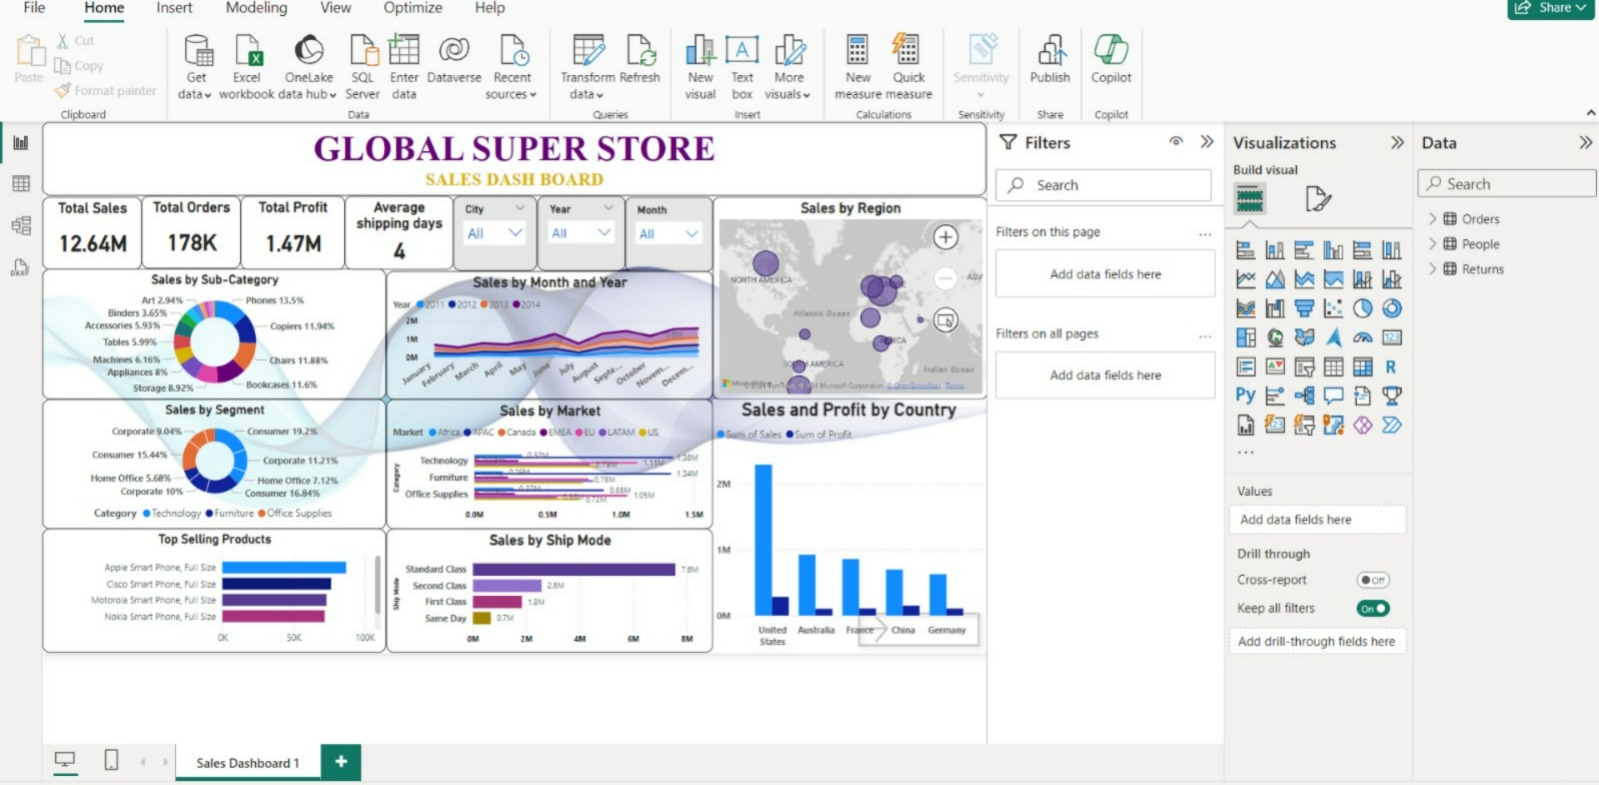

The dashboard page shown, as its layout file describes it:
{"tool":"powerbi","page":{"name":"Sales Dashboard 1","canvas":[1280,720],"ordinal":0},"visuals":[{"type":"textbox","box":[0,0,1278.9,100.3],"z":0},{"type":"clusteredBarChart","title":"Sales by Ship Mode","fields":{"Y":["Sum(Orders.Sales)"],"Category":["Orders.Ship Mode"]},"box":[466,551.6,442.7,168.4],"z":1000},{"type":"clusteredBarChart","title":"Sales by Market","fields":{"Y":["Sum(Orders.Sales)"],"Category":["Orders.Category"],"Series":["Orders.Market"]},"box":[466,376,442.7,175.6],"z":2000},{"type":"map","title":"Sales by Region","fields":{"Category":["Orders.Country"],"Size":["Sum(Orders.Sales)"]},"box":[908.6,101.7,373.1,274.1],"z":3000},{"type":"donutChart","title":"Sales by Sub-Category","fields":{"Category":["Orders.Sub-Category"],"Y":["Sum(Orders.Sales)"]},"box":[0,198.9,466,177.1],"z":4000},{"type":"donutChart","title":"Sales by Segment","fields":{"Category":["Orders.Category"],"Y":["Sum(Orders.Sales)"],"Series":["Orders.Segment"]},"box":[0,376,466,175.6],"z":5000},{"type":"card","title":"Total Orders","fields":{"Values":["Sum(Orders.Quantity)"]},"box":[134.5,100.2,134.5,98.8],"z":6000},{"type":"card","title":"Total Sales","fields":{"Values":["Sum(Orders.Sales)"]},"box":[0,101.5,134.5,98.8],"z":7000},{"type":"card","title":"Total Profit","fields":{"Values":["Sum(Orders.Profit)"]},"box":[269,100.2,141.3,100.2],"z":8000},{"type":"barChart","title":"Top Selling Products","fields":{"Category":["Orders.Product Name"],"Y":["Sum(Orders.Sales)"]},"box":[0,551.6,466,168.4],"z":9000},{"type":"card","title":"Average shipping days","fields":{"Values":["Median(Orders.Delivery days)"]},"box":[410.3,100.2,146.8,100.2],"z":10000},{"type":"slicer","fields":{"Values":["Orders.City"]},"box":[557.4,100.2,113.2,101.6],"z":11000},{"type":"slicer","fields":{"Values":["Orders.Order Date.Variation.Date Hierarchy.Year"]},"box":[670.6,100.2,119,101.6],"z":12000},{"type":"slicer","fields":{"Values":["Orders.Order Date.Variation.Date Hierarchy.Month"]},"box":[789.7,101.6,119,101.6],"z":13000},{"type":"stackedAreaChart","title":"Sales by Month and Year","fields":{"Y":["Sum(Orders.Sales)"],"Category":["Orders.Order Date.Variation.Date Hierarchy.Month"],"Series":["Orders.Order Date.Variation.Date Hierarchy.Year"]},"box":[466,201.8,442.7,174.2],"z":15000},{"type":"actionButton","box":[1096.1,655.8,183.3,64.3],"z":16000},{"type":"clusteredColumnChart","title":"Sales and Profit by Country","fields":{"Category":["Orders.Country"],"Y":["Sum(Orders.Sales)","Sum(Orders.Profit)"]},"box":[908.7,376,370.2,344],"z":17000}]}

Visuals, with their boxes on the page's 1280x720 design canvas (x1, y1, x2, y2). These are canvas units, not pixel positions in the 1599x785 screenshot, which may show the page scaled, cropped or inside an application window:
textbox: (left=0, top=0, right=1279, bottom=100)
"Sales by Ship Mode" clusteredBarChart: (left=466, top=552, right=909, bottom=720)
"Sales by Market" clusteredBarChart: (left=466, top=376, right=909, bottom=552)
"Sales by Region" map: (left=909, top=102, right=1282, bottom=376)
"Sales by Sub-Category" donutChart: (left=0, top=199, right=466, bottom=376)
"Sales by Segment" donutChart: (left=0, top=376, right=466, bottom=552)
"Total Orders" card: (left=134, top=100, right=269, bottom=199)
"Total Sales" card: (left=0, top=102, right=134, bottom=200)
"Total Profit" card: (left=269, top=100, right=410, bottom=200)
"Top Selling Products" barChart: (left=0, top=552, right=466, bottom=720)
"Average shipping days" card: (left=410, top=100, right=557, bottom=200)
slicer - Orders.City: (left=557, top=100, right=671, bottom=202)
slicer - Orders.Order Date.Variation.Date Hierarchy.Year: (left=671, top=100, right=790, bottom=202)
slicer - Orders.Order Date.Variation.Date Hierarchy.Month: (left=790, top=102, right=909, bottom=203)
"Sales by Month and Year" stackedAreaChart: (left=466, top=202, right=909, bottom=376)
actionButton: (left=1096, top=656, right=1279, bottom=720)
"Sales and Profit by Country" clusteredColumnChart: (left=909, top=376, right=1279, bottom=720)
